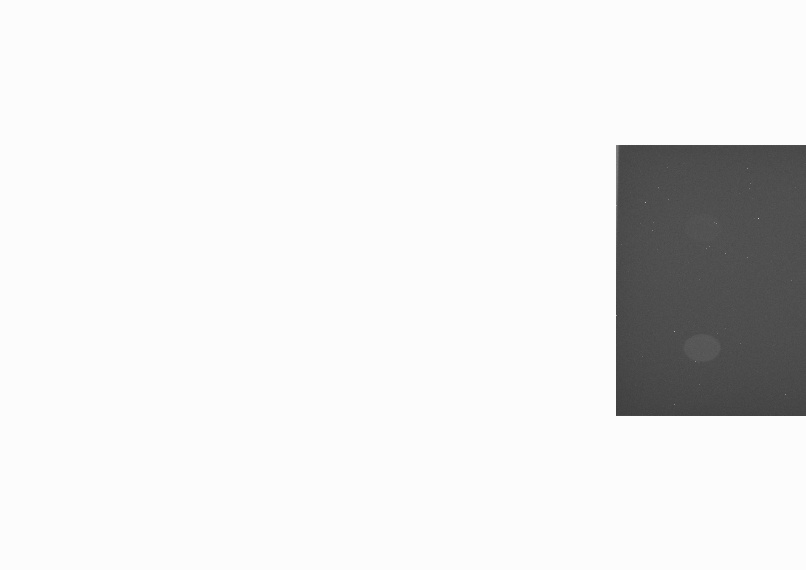bubble: (682, 333, 722, 361), (683, 214, 718, 242)
